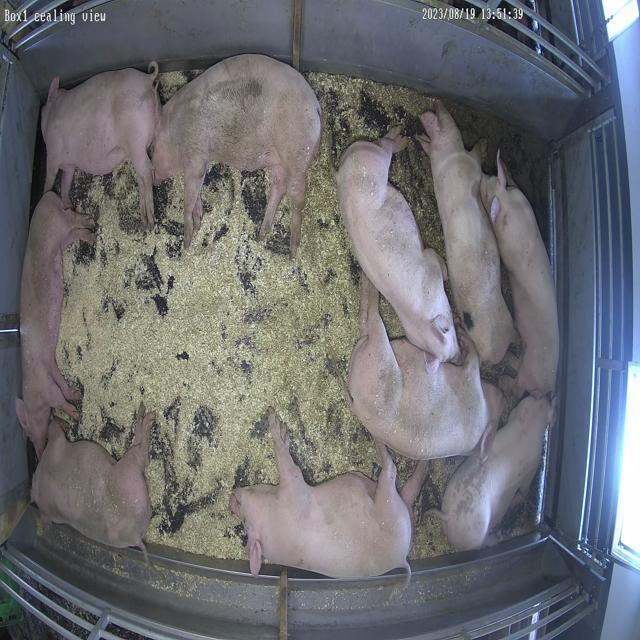Dirt: (464, 113, 550, 238)
Pig: (152, 54, 320, 256), (230, 412, 413, 578), (337, 127, 460, 362), (349, 276, 489, 461), (419, 101, 516, 364), (16, 191, 94, 456), (41, 64, 160, 224), (482, 155, 560, 398), (440, 398, 555, 552), (31, 415, 152, 548)
